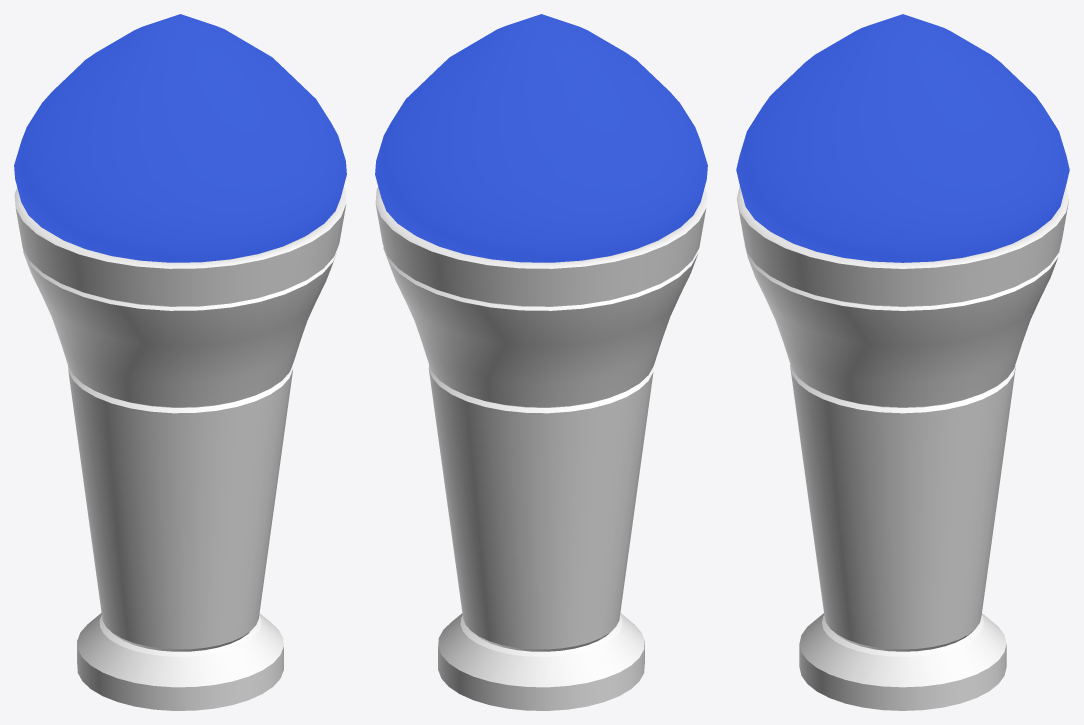
The model's file is Stand.fbx.
3 renders of one model, left to right at view 1: azimuth 30°, elevation 25°; view 2: azimuth 150°, elevation 25°; view 3: azimuth 270°, elevation 25°, orthographic.
Visible parts, largest first — view 1: Cube; view 2: Cube; view 3: Cube.
Boxes of the visible parts, x1,y1,x2,y2 form: Cube: [14, 14, 346, 710]; Cube: [375, 14, 707, 710]; Cube: [736, 14, 1069, 710].
Size of the model in its own units: 162 by 351 by 162.
